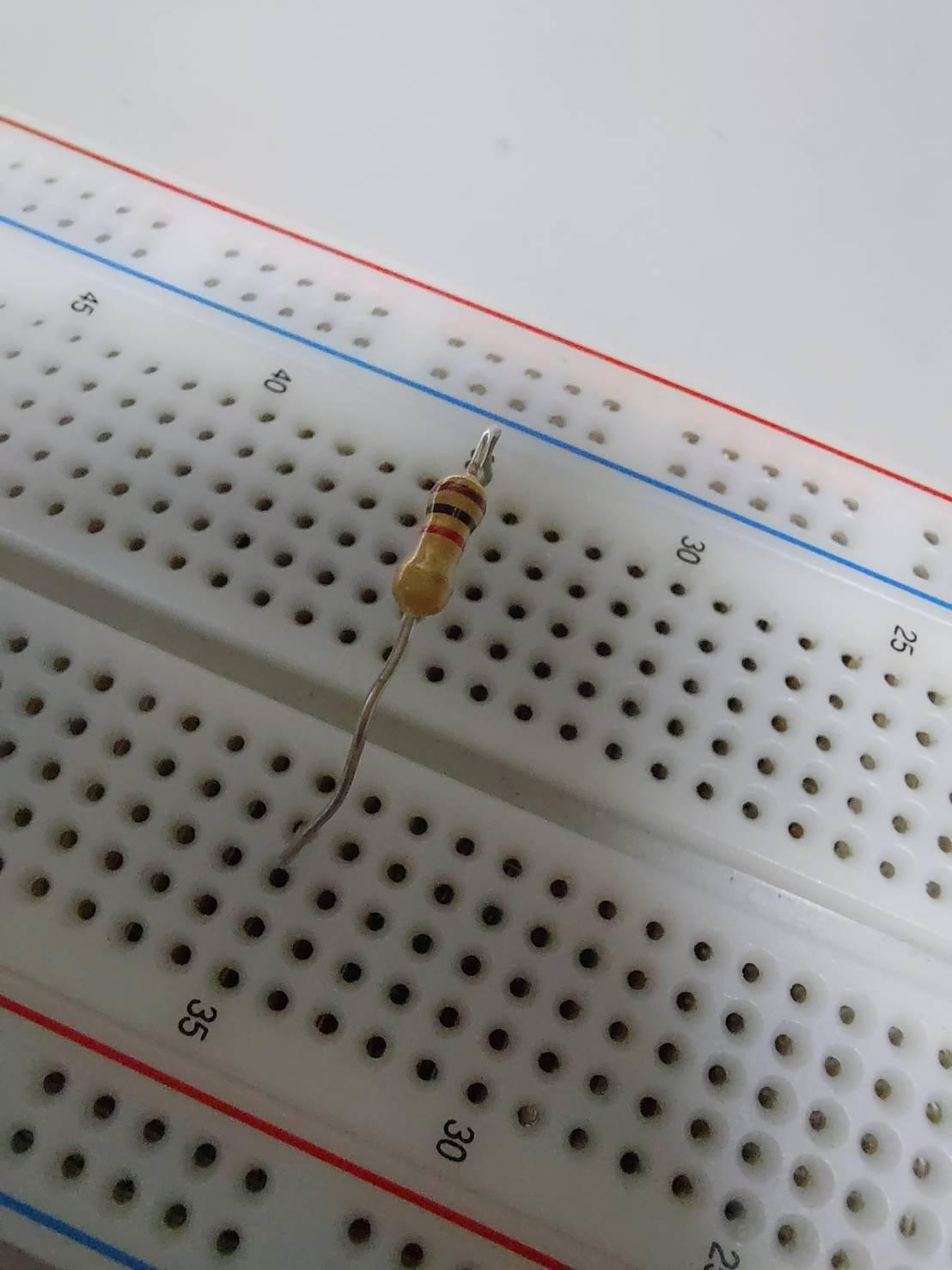resistor: (405, 473, 486, 608)
